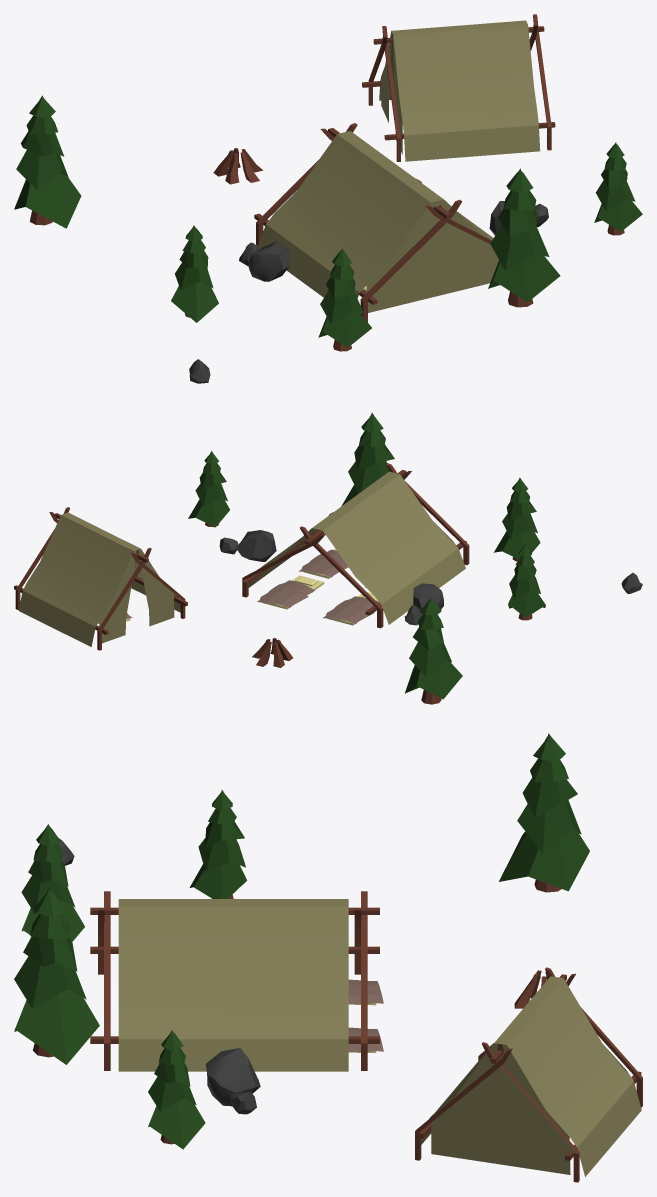
Rendered from BarraksLVL2.fbx.
3 views of the same model, one above another, from view 1: azimuth 30°, elevation 25°; view 2: azimuth 150°, elevation 25°; view 3: azimuth 270°, elevation 25° (orthographic). The views are drawn at different scales.
Parts seen in each view (by area): view 1: палатка, палатка.001, ель.004, ель.001, ель.002, ель.003, ель.006, Cube.001, Cube.005; view 2: палатка, палатка.001, ель.001, ель.004, ель.002, ель.006, ель.003, СПАЛЬНИК.004, Cube.004, СПАЛЬНИК.001, СПАЛЬНИК.002, Cube.005 (+1 smaller); view 3: палатка, палатка.001, ель.004, ель.001, ель.006, ель.003, ель.002, Cube.004, СПАЛЬНИК.001.
Boxes of the visible parts, bbox=[...] form: палатка: bbox=[254, 123, 498, 322]; палатка.001: bbox=[362, 14, 555, 161]; ель.004: bbox=[488, 168, 560, 307]; ель.001: bbox=[14, 95, 81, 228]; ель.002: bbox=[318, 248, 371, 351]; ель.003: bbox=[171, 225, 218, 322]; ель.006: bbox=[594, 142, 642, 235]; Cube.001: bbox=[248, 241, 289, 281]; Cube.005: bbox=[213, 148, 263, 184]; палатка: bbox=[242, 463, 469, 628]; палатка.001: bbox=[14, 507, 187, 650]; ель.001: bbox=[405, 597, 462, 704]; ель.004: bbox=[341, 412, 394, 506]; ель.002: bbox=[494, 477, 540, 561]; ель.006: bbox=[188, 451, 229, 527]; ель.003: bbox=[508, 544, 545, 620]; СПАЛЬНИК.004: bbox=[257, 575, 324, 609]; Cube.004: bbox=[236, 530, 276, 561]; СПАЛЬНИК.001: bbox=[323, 592, 378, 625]; СПАЛЬНИК.002: bbox=[298, 548, 348, 578]; Cube.005: bbox=[252, 638, 292, 667]; палатка: bbox=[90, 891, 379, 1071]; палатка.001: bbox=[415, 967, 642, 1182]; ель.004: bbox=[14, 887, 99, 1064]; ель.001: bbox=[499, 733, 589, 892]; ель.006: bbox=[148, 1030, 205, 1149]; ель.003: bbox=[189, 790, 246, 898]; ель.002: bbox=[21, 824, 84, 941]; Cube.004: bbox=[206, 1048, 260, 1106]; СПАЛЬНИК.001: bbox=[348, 979, 383, 1005].
Bounding box in the file's own units: 750 × 187 × 604.
